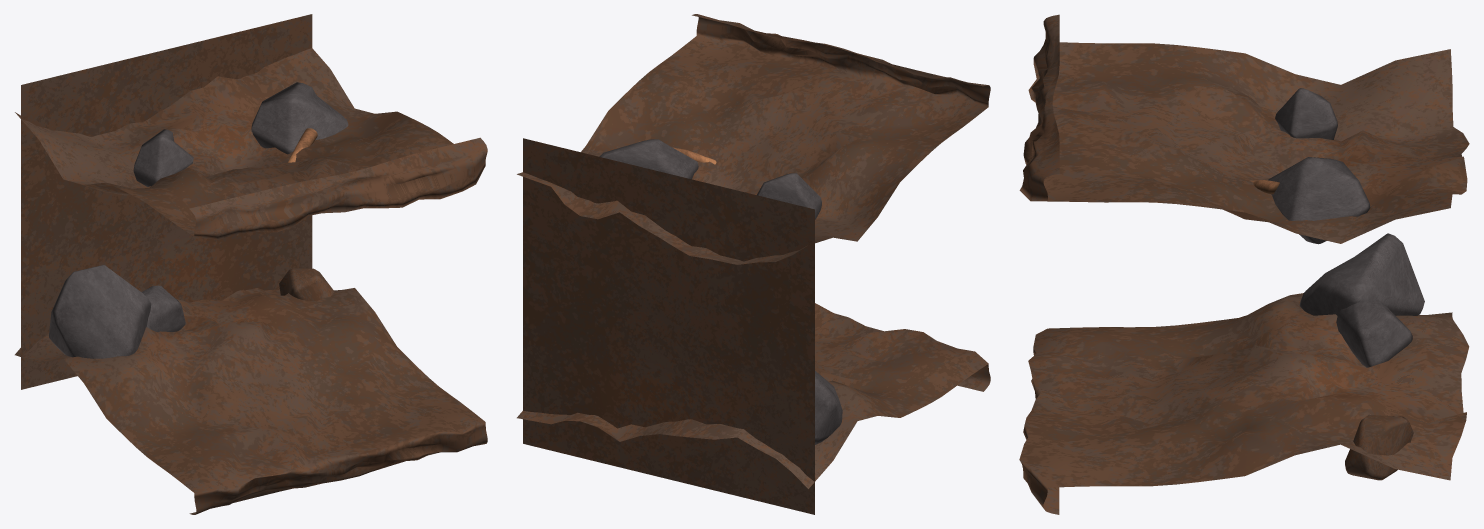
The model's file is BackgroundScene_06.fbx.
3 views of the same model, side by side, from view 1: azimuth 30°, elevation 25°; view 2: azimuth 150°, elevation 25°; view 3: azimuth 270°, elevation 25° (orthographic). The views are drawn at different scales.
Parts seen in each view (by area): view 1: BackgroundScene_06; view 2: BackgroundScene_06; view 3: BackgroundScene_06.
Boxes of the visible parts, bbox=[...] form: BackgroundScene_06: bbox=[15, 14, 487, 514]; BackgroundScene_06: bbox=[517, 14, 990, 514]; BackgroundScene_06: bbox=[1019, 14, 1469, 514].
Bounding box in the file's own units: 10 × 10.02 × 11.96.
